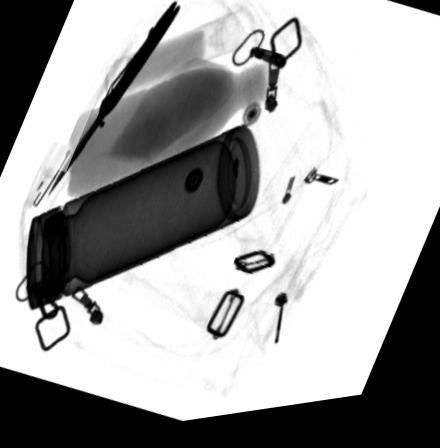Knife: (45, 6, 180, 199)
